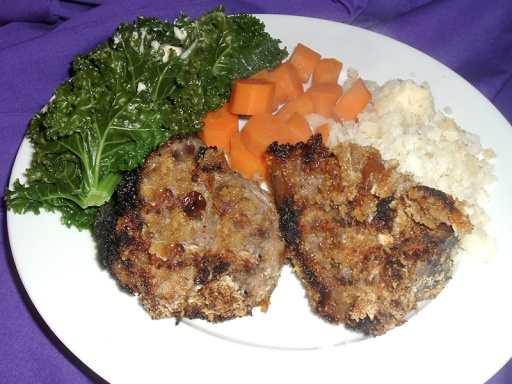background: (2, 2, 398, 202)
